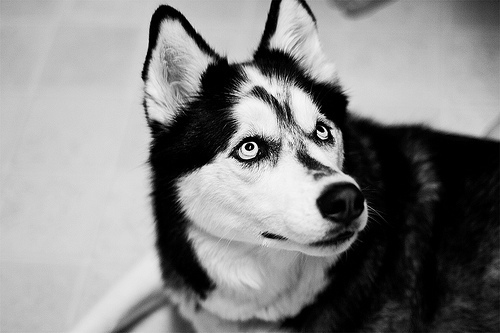dog: (139, 1, 499, 332)
